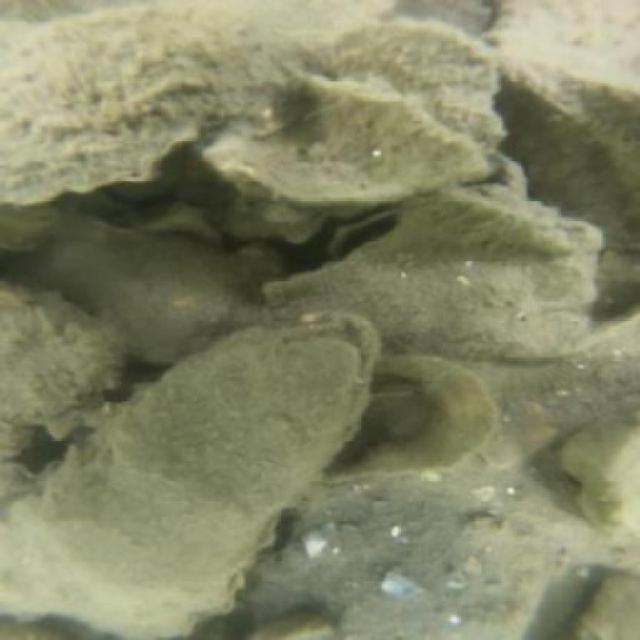Oyster-Closed: (17, 311, 387, 623), (190, 72, 525, 240)
Oyster-Indeterminate: (0, 4, 309, 210), (267, 191, 603, 359), (250, 496, 554, 638), (38, 222, 253, 357), (312, 353, 505, 483), (312, 21, 493, 141), (0, 276, 122, 429), (419, 186, 580, 254), (575, 574, 638, 638)
